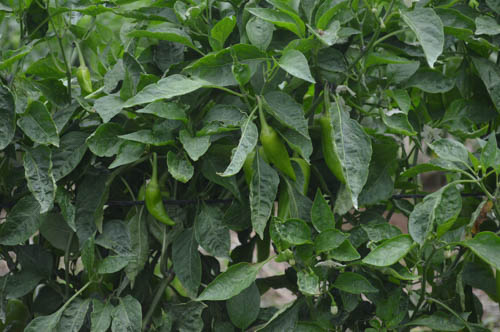ChiliPepper: (322, 115, 358, 185), (261, 130, 300, 181), (145, 185, 172, 227), (77, 67, 93, 91)
